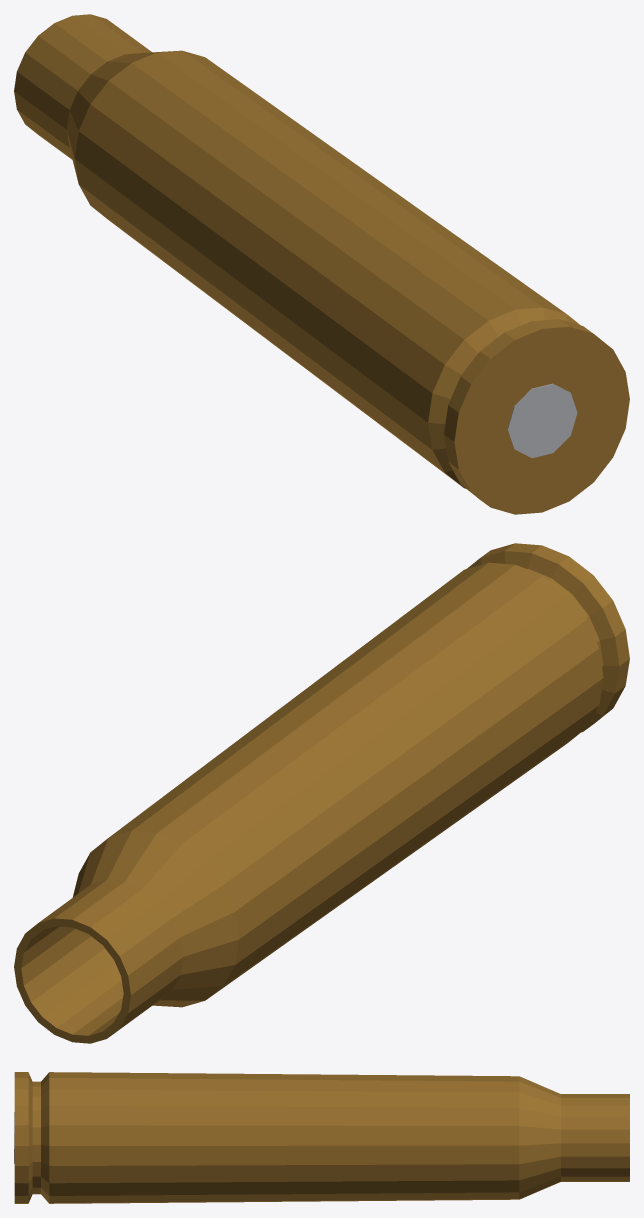
The model's file is estojo_556.glb.
The picture shows the model from 3 angles, top to bottom: view 1: azimuth 30°, elevation 25°; view 2: azimuth 150°, elevation 25°; view 3: azimuth 270°, elevation 25°; orthographic projection. The views are drawn at different scales.
Visible parts, largest first — view 1: estojo_556_latao, estojo_556_aco_inox; view 2: estojo_556_latao; view 3: estojo_556_latao.
Part boxes in pixels (box(x1,y1,x2,y2)): estojo_556_latao: box(14, 14, 629, 514); estojo_556_aco_inox: box(507, 383, 577, 458); estojo_556_latao: box(14, 543, 629, 1043); estojo_556_latao: box(14, 1072, 629, 1203).
Size of the model in its own units: 0.0096 by 0.0096 by 0.0446.
